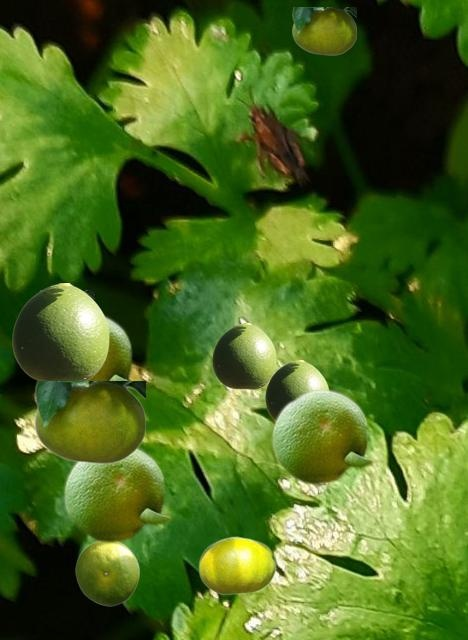dalandan: (62, 447, 172, 542), (270, 387, 375, 484), (12, 283, 108, 380), (34, 381, 144, 463), (198, 536, 275, 594), (212, 323, 275, 388), (75, 542, 138, 605), (89, 313, 138, 391), (265, 360, 328, 418), (292, 7, 355, 54), (39, 290, 93, 298)
